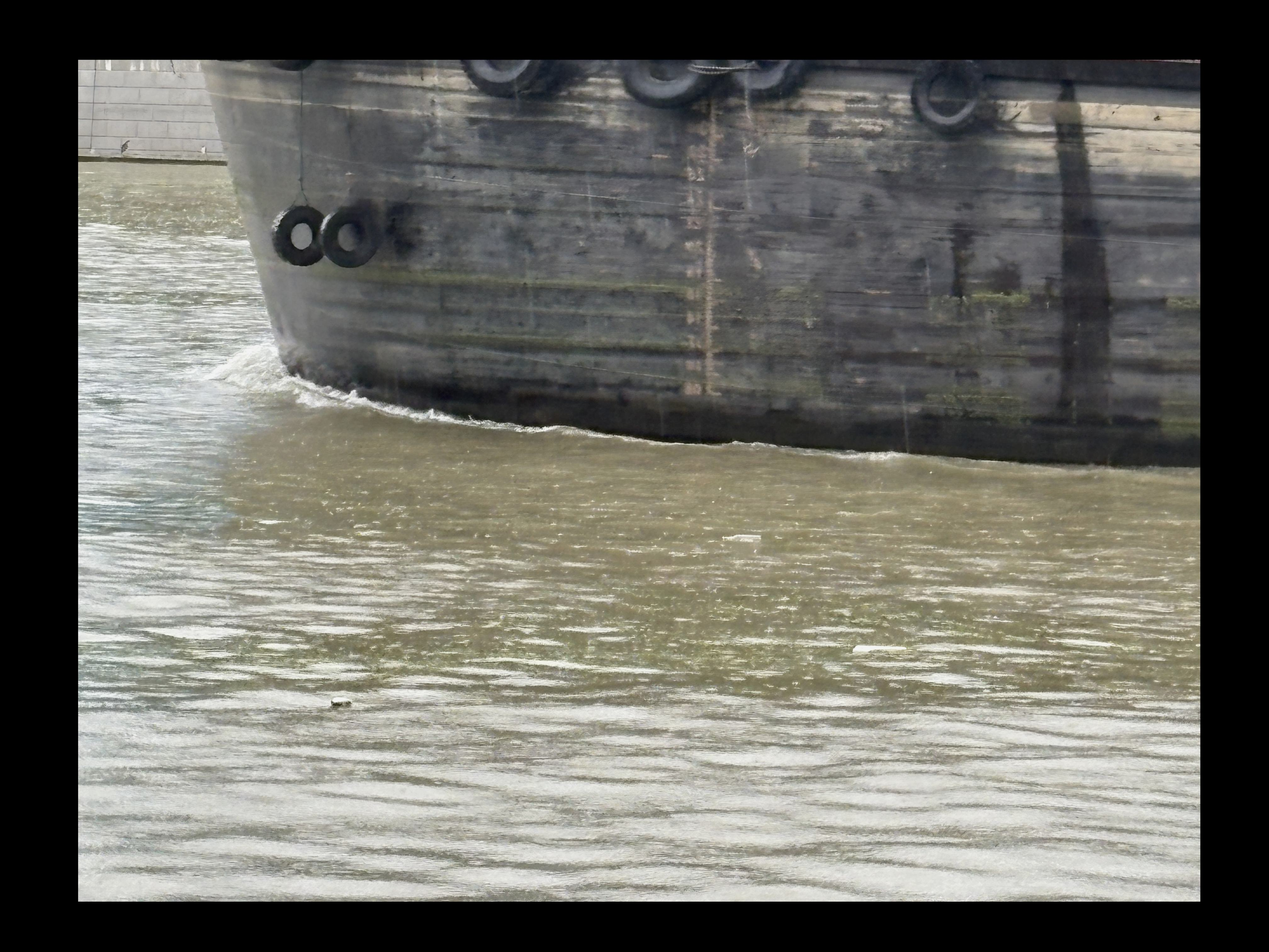Plastic wastes: (716, 527, 767, 546), (331, 692, 352, 710)
